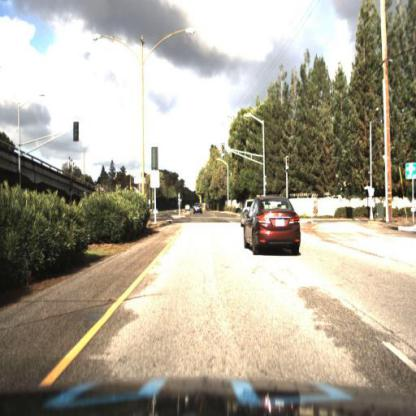car: (242, 194, 306, 258), (191, 201, 205, 217)
trafficLight-Green: (219, 139, 226, 167), (282, 155, 292, 173), (221, 142, 225, 158)
